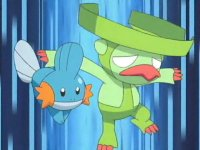mudkip: (12, 41, 93, 124)
